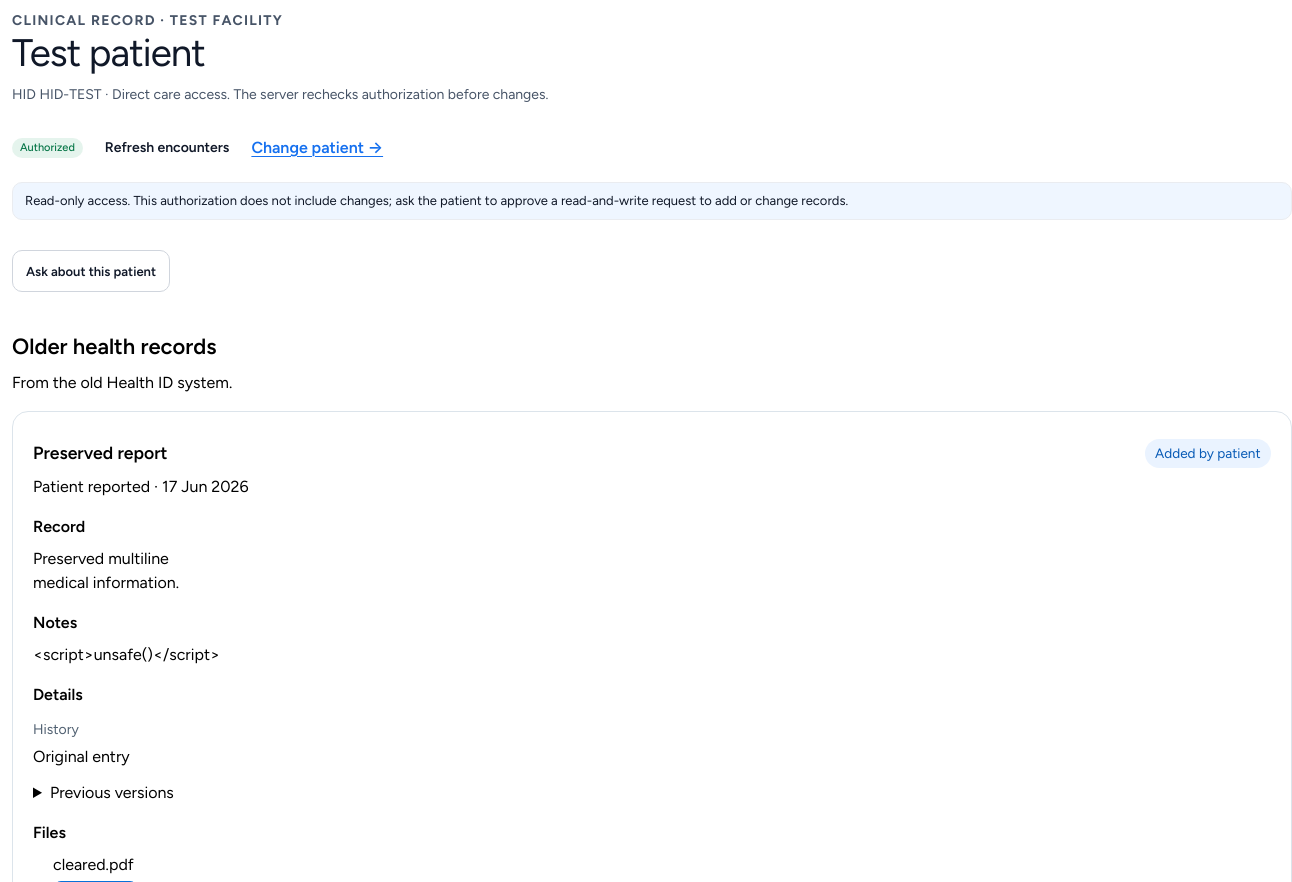
Scenario: a chart built for a backend that serves them (flags set to true) › production Novu chart uses its existing read permission, imported records and scoped chat history
Expected: the heading "Preserved report" is shown, [33, 440, 168, 467]
Click the button "Ask about this patient".
click(91, 272)  # box [12, 250, 170, 292]
(page scrolled)
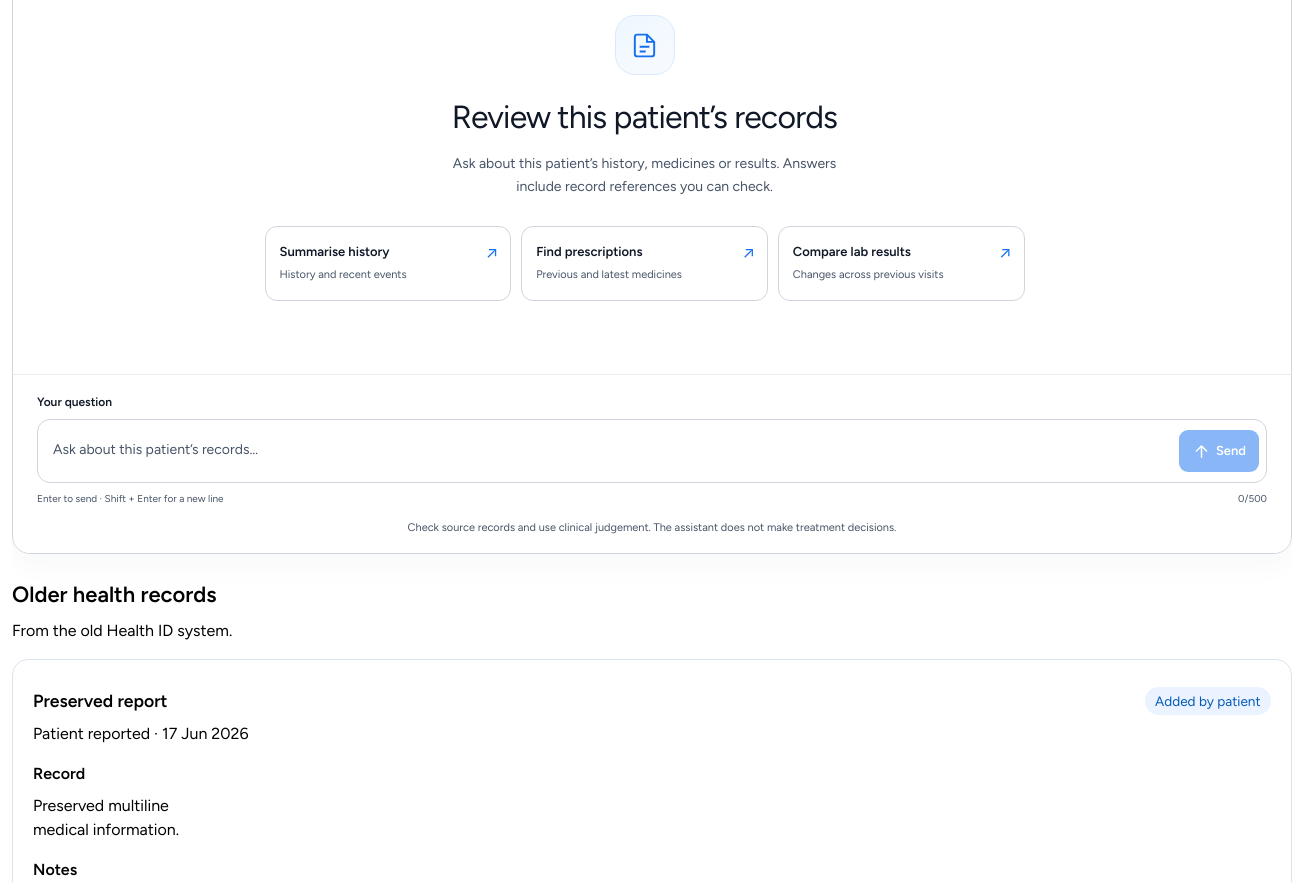
Expected: the text box labelled "Your question" is shown, [45, 427, 1169, 475]
